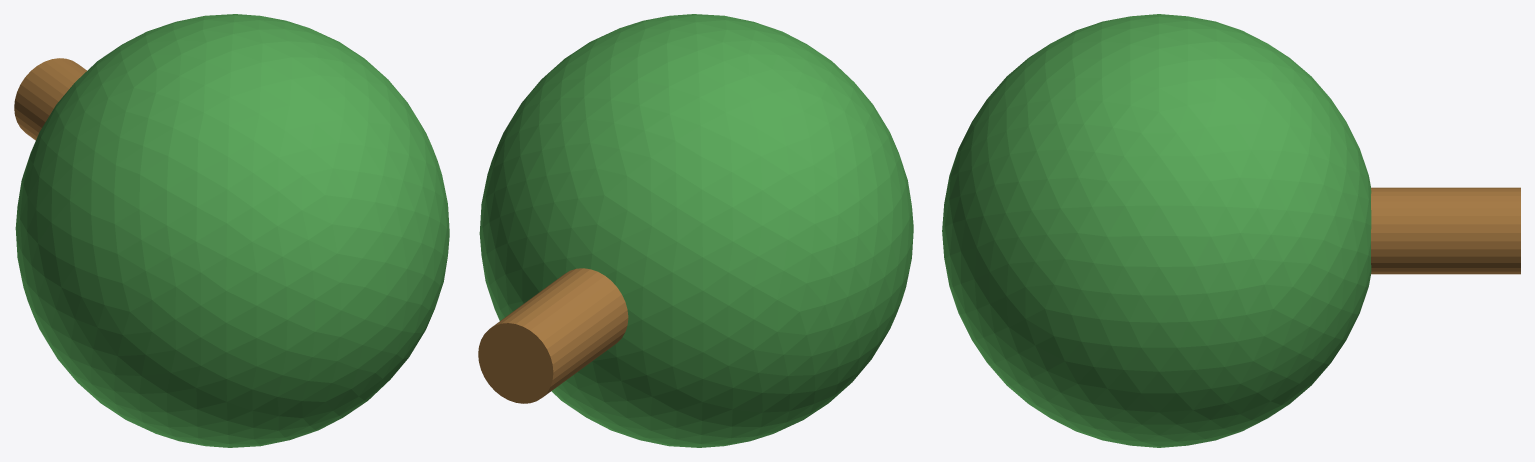
File: tree.glb
3 renders of one model, left to right at view 1: azimuth 30°, elevation 25°; view 2: azimuth 150°, elevation 25°; view 3: azimuth 270°, elevation 25°, orthographic.
Visible parts, largest first — view 1: world; view 2: world; view 3: world.
Part boxes in pixels (x1,y1,x2,y2): world: [14, 14, 449, 447]; world: [478, 14, 913, 447]; world: [942, 14, 1520, 447].
Bounding box in the file's own units: 3 × 3 × 4.
